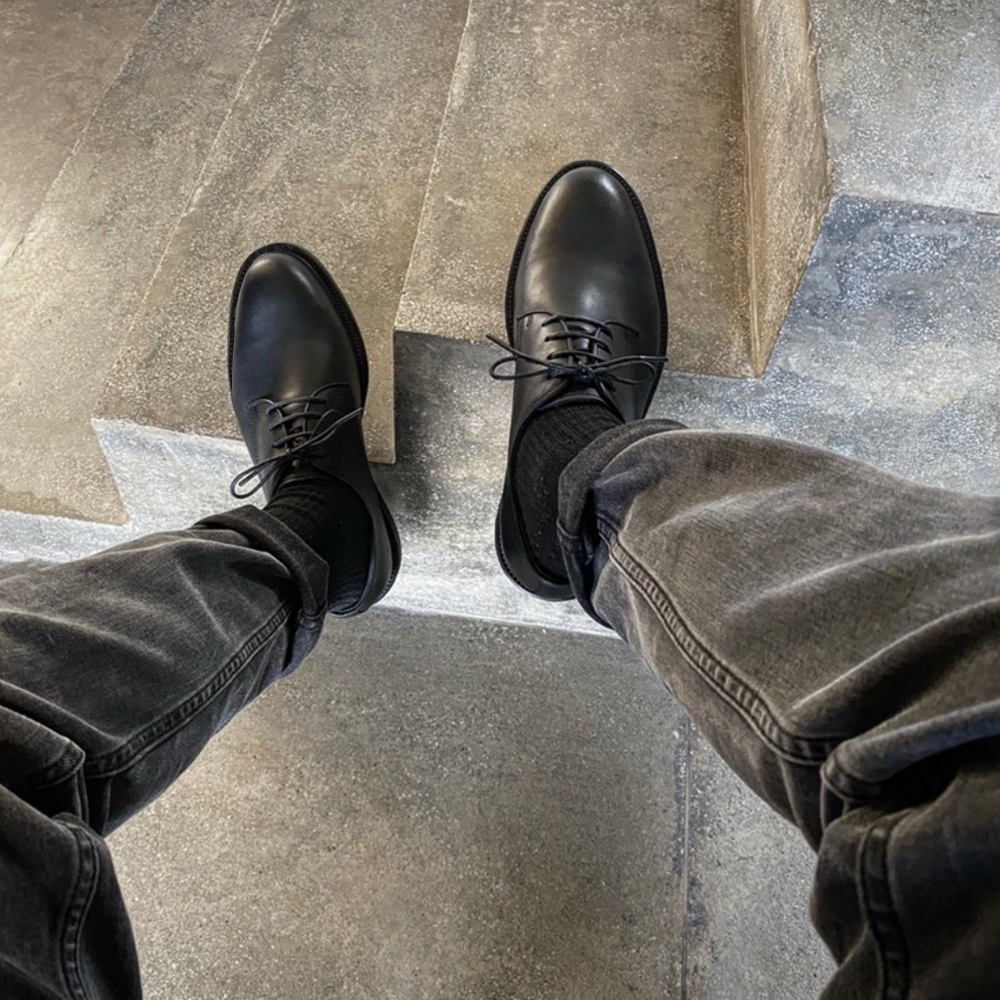derby: (492, 160, 670, 599), (224, 241, 406, 619)
